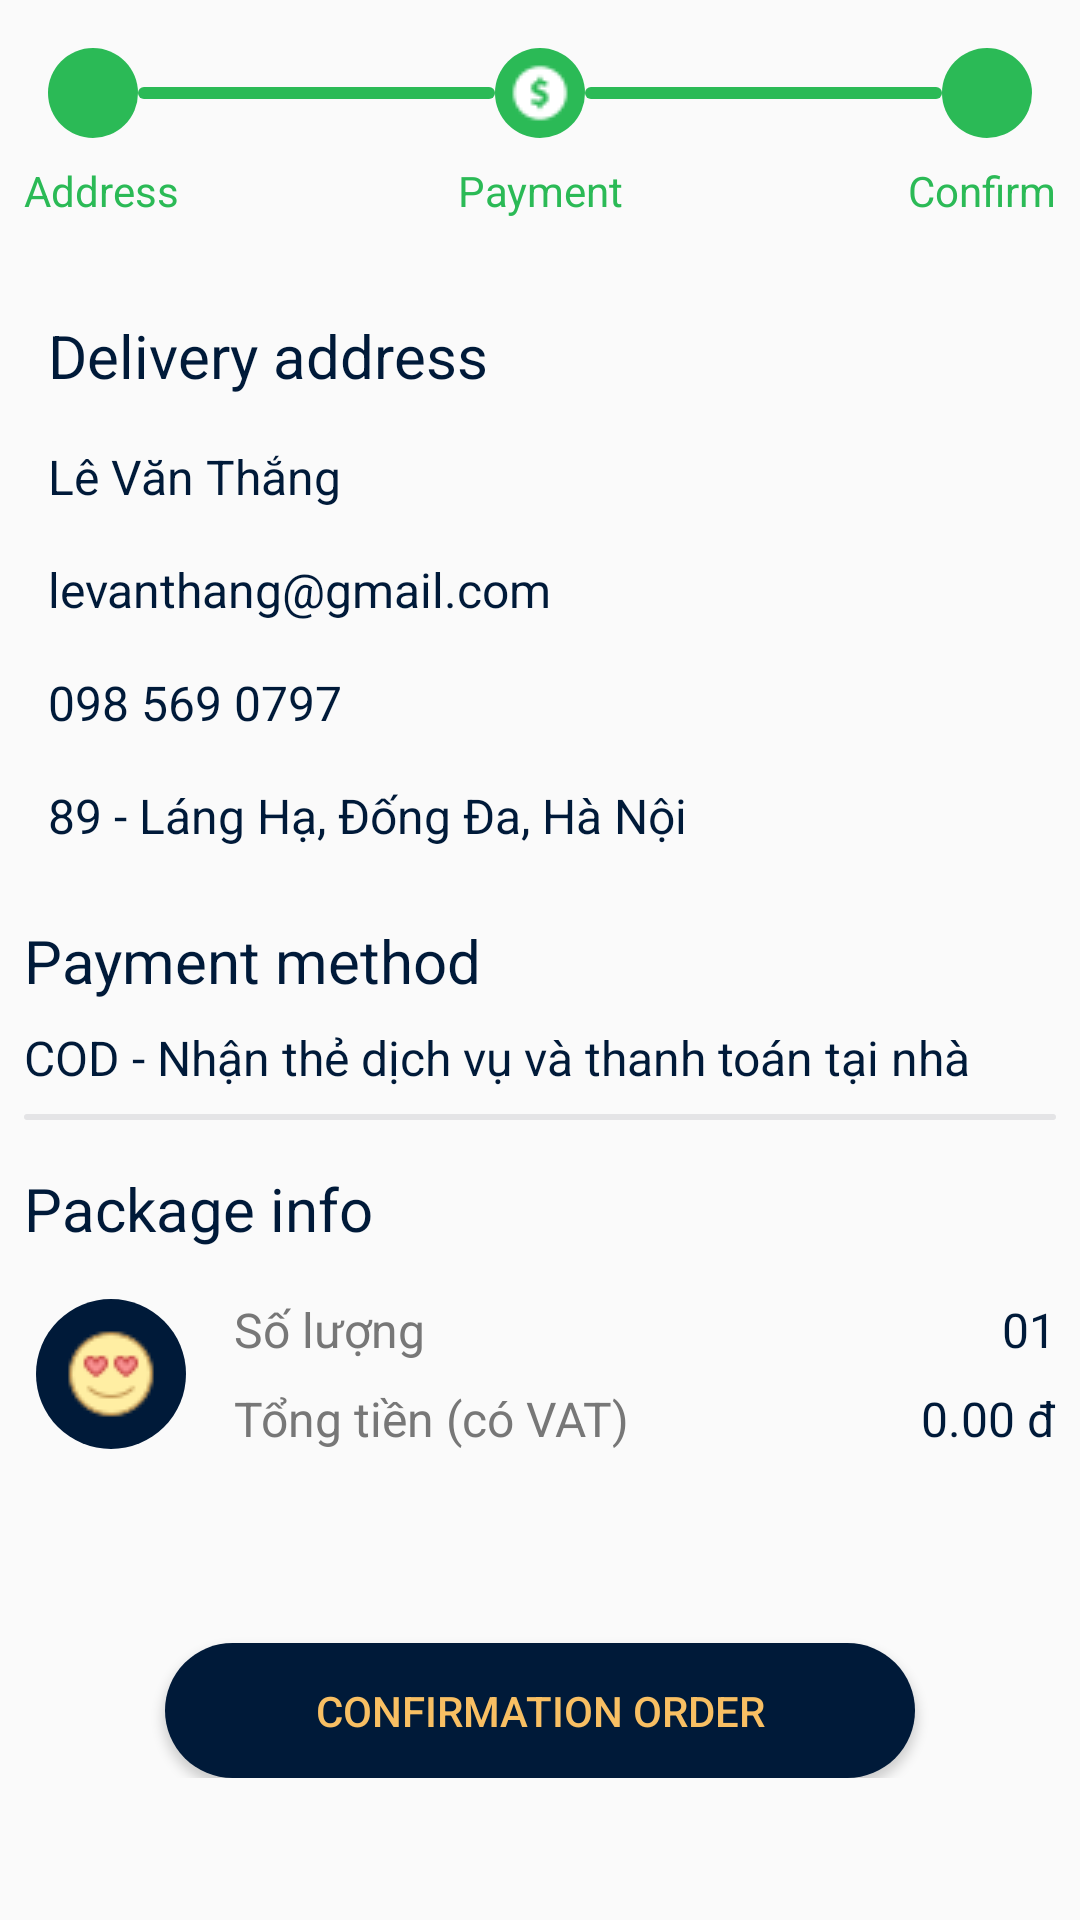

Icon bounding boxes for this 1080 x 1920 phone screenshot, format [left=x1, top=y1, right=x2, bottom=y2]:
notifi dollar: [left=495, top=48, right=585, bottom=138]
smile: [left=36, top=1299, right=186, bottom=1449]
